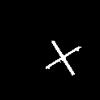single_crochet: (46, 41, 80, 74)
